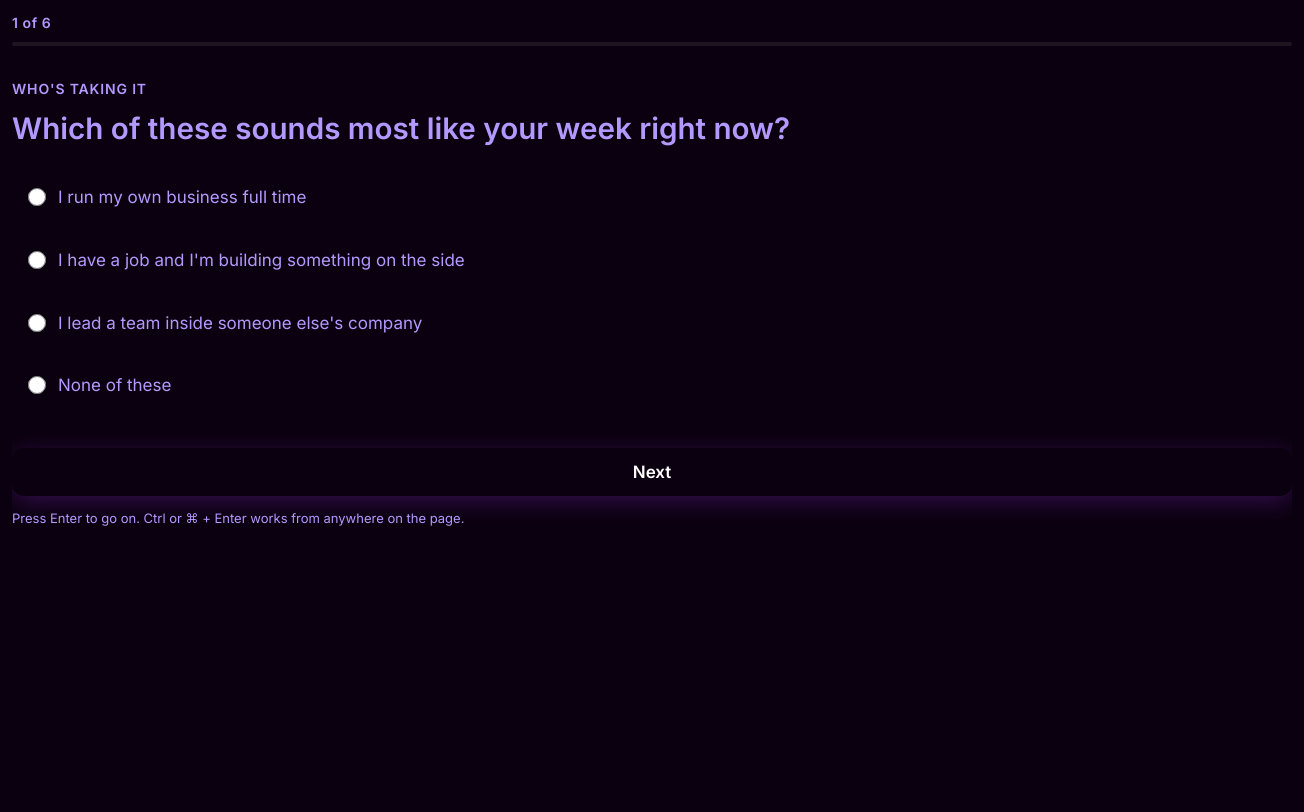
Test case: ReadFlow › hides the operator-only option for a team lead
The width and height of the screenshot is (1304, 812).
Expected: the heading "Which of these sounds most like your week right now?" is shown, [12,110,790,146]
Click the radio button labelled "I lead a team inside someone else's company".
click(37, 322)  # box [28,314,46,332]
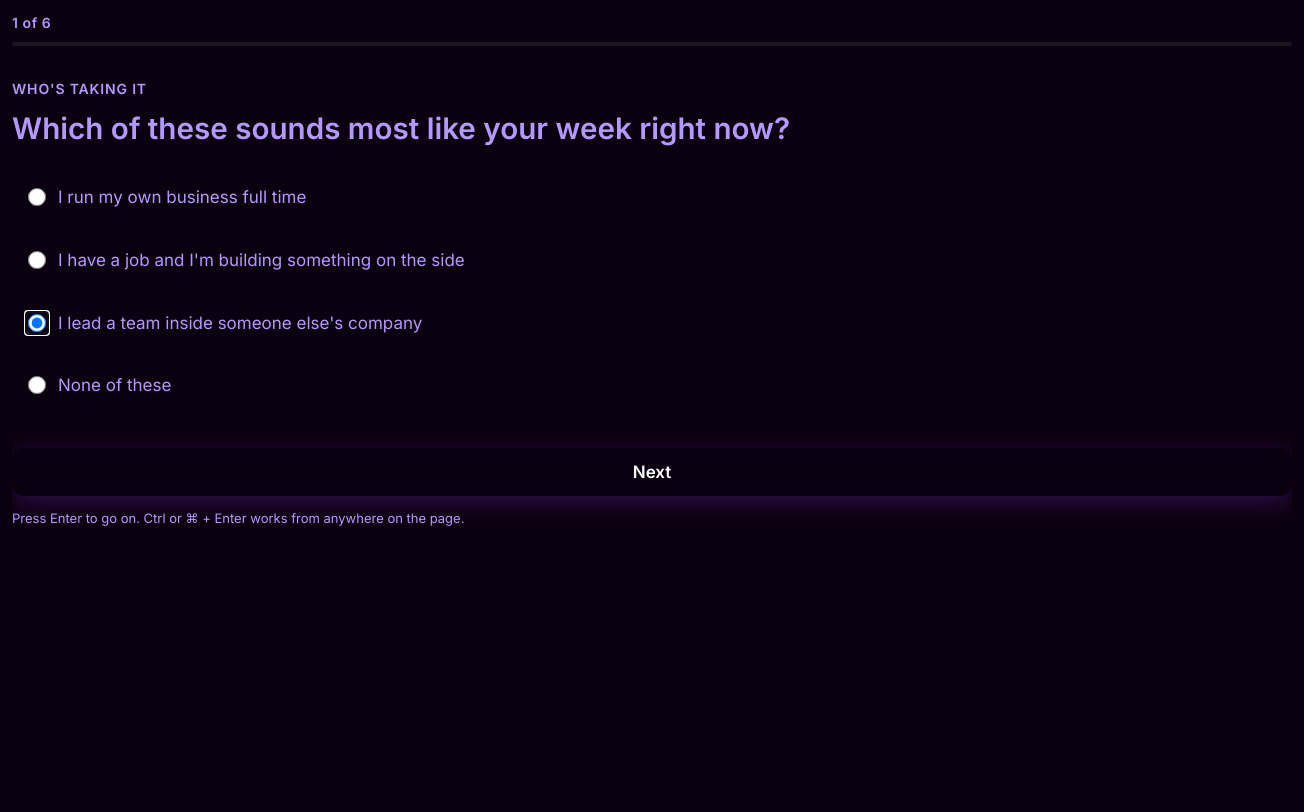
Click the button "Next".
click(652, 472)  # box [12,448,1292,496]
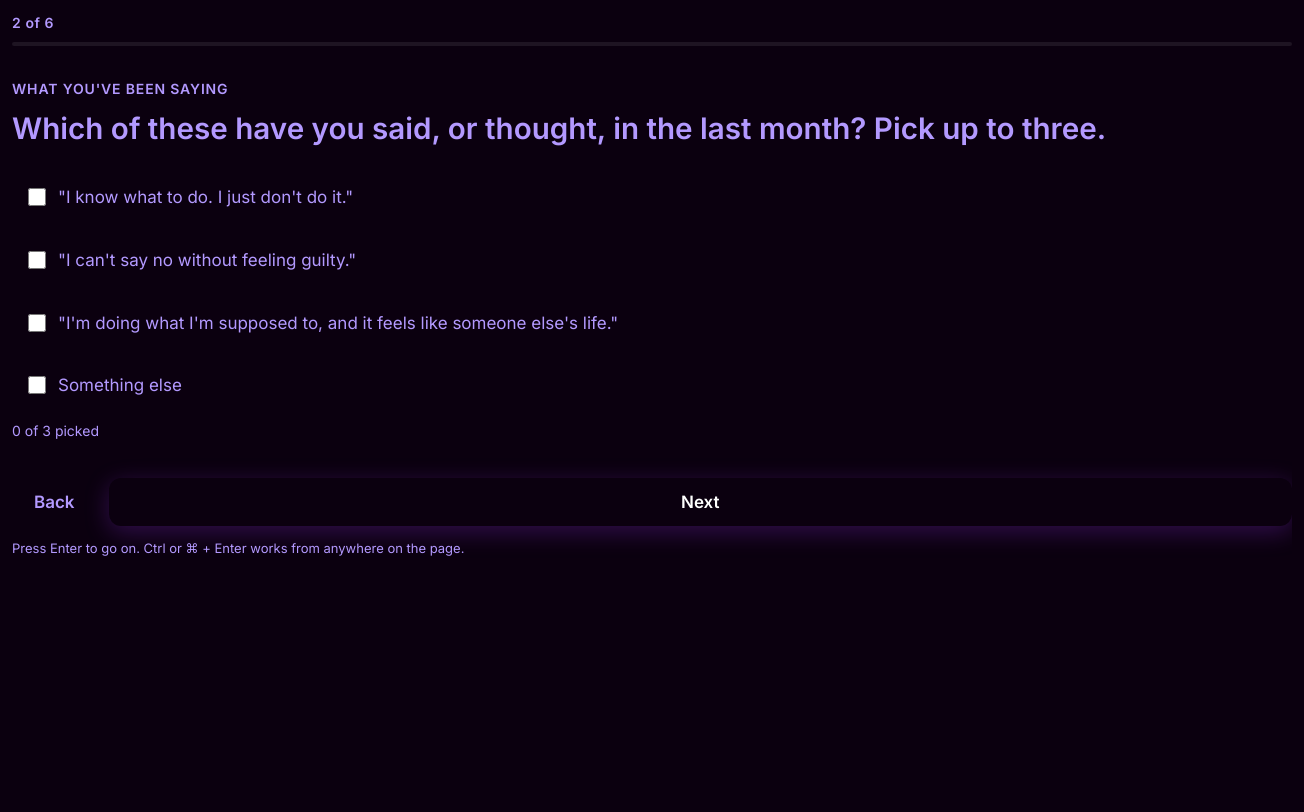
Expected: the heading "Pick up to three" is shown, [12,109,1292,147]
